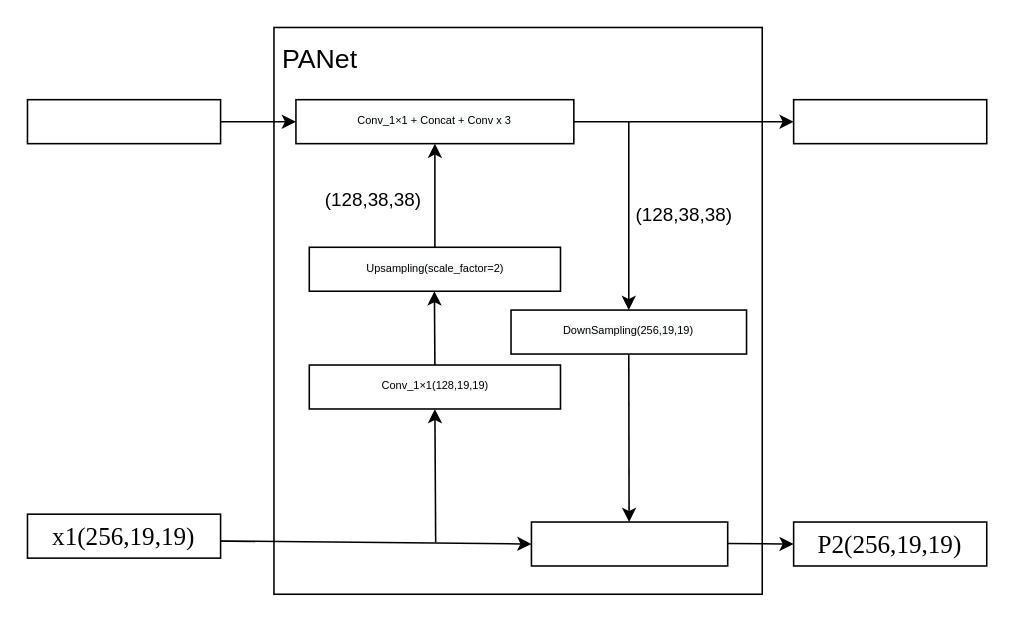
Some shapes in this 1014 by 622 pixel diagram are drawn without their labels. Here are the shapes that lost their labels. From the top down, the centre of each, then its label:
point 123,121: x1(256,38,38)
point 889,121: P1(128,38,38)
point 629,543: Concat + Conv x 3
